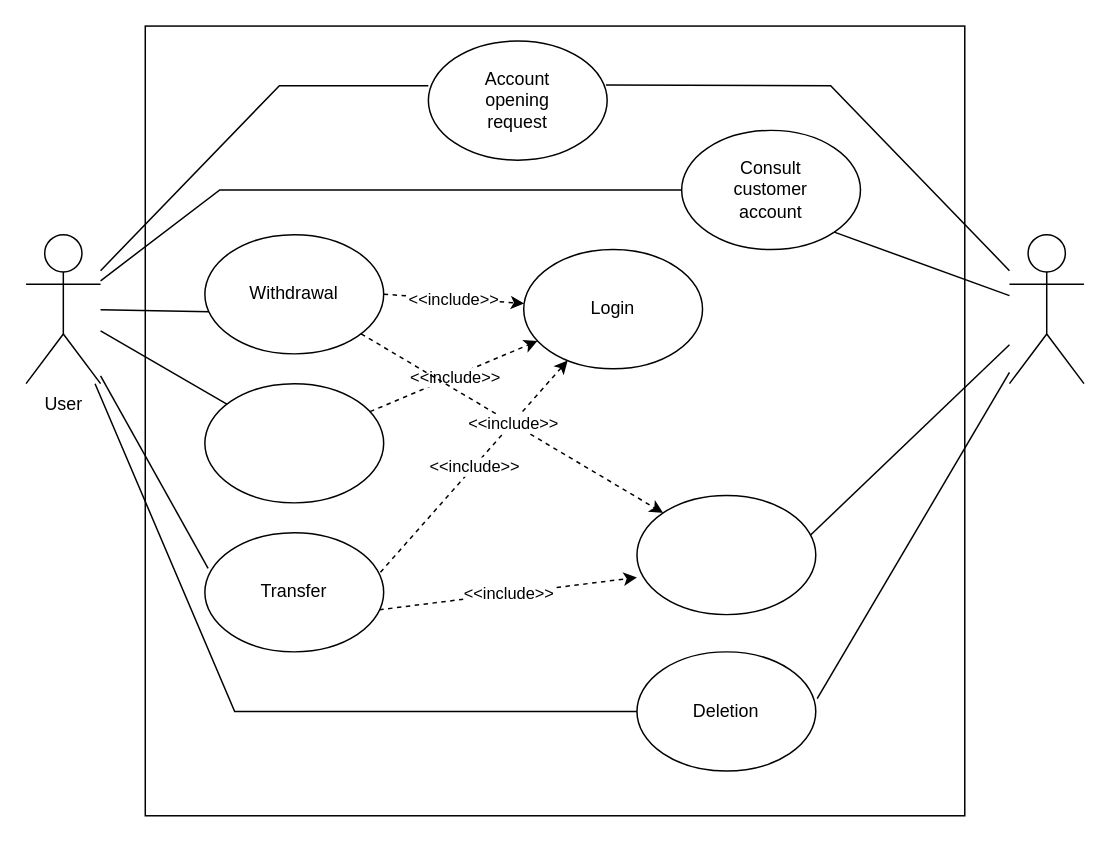
Image size: 1110x842. Some labels were removed from this diagram. Here are the shapes that lost their labels. From the top down, the centre of each, then its label:
At point (1046, 308): "Admin".
At point (293, 442): "Deposit".
At point (725, 554): "Validation".
